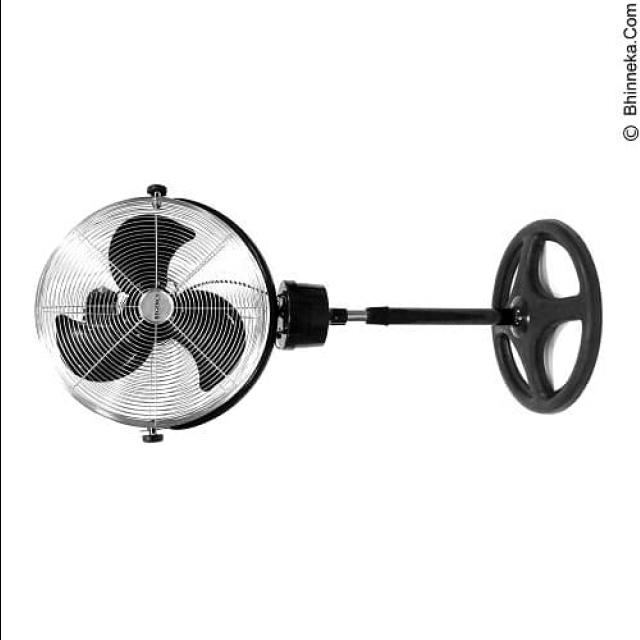fan: (30, 179, 608, 451)
